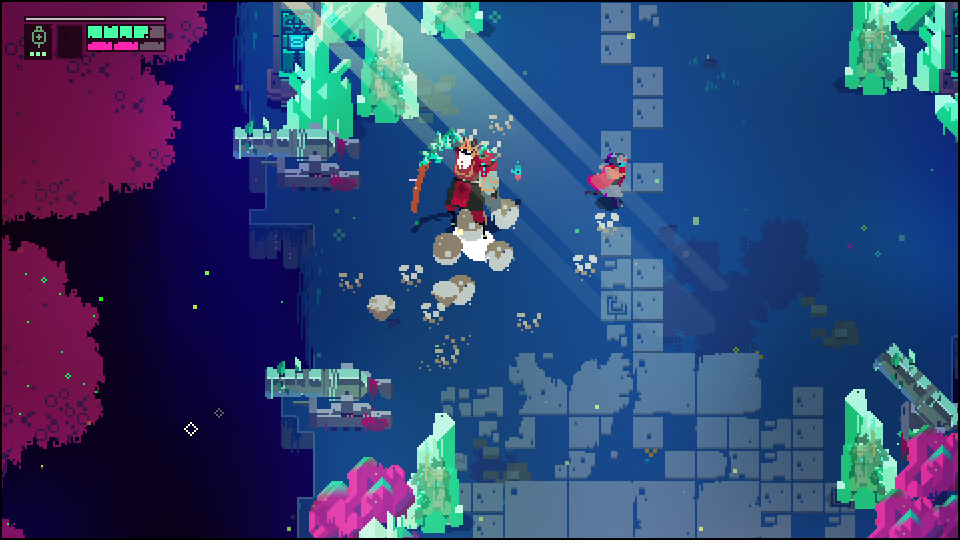hanged_man: (410, 129, 496, 229)
player: (593, 148, 626, 207)
